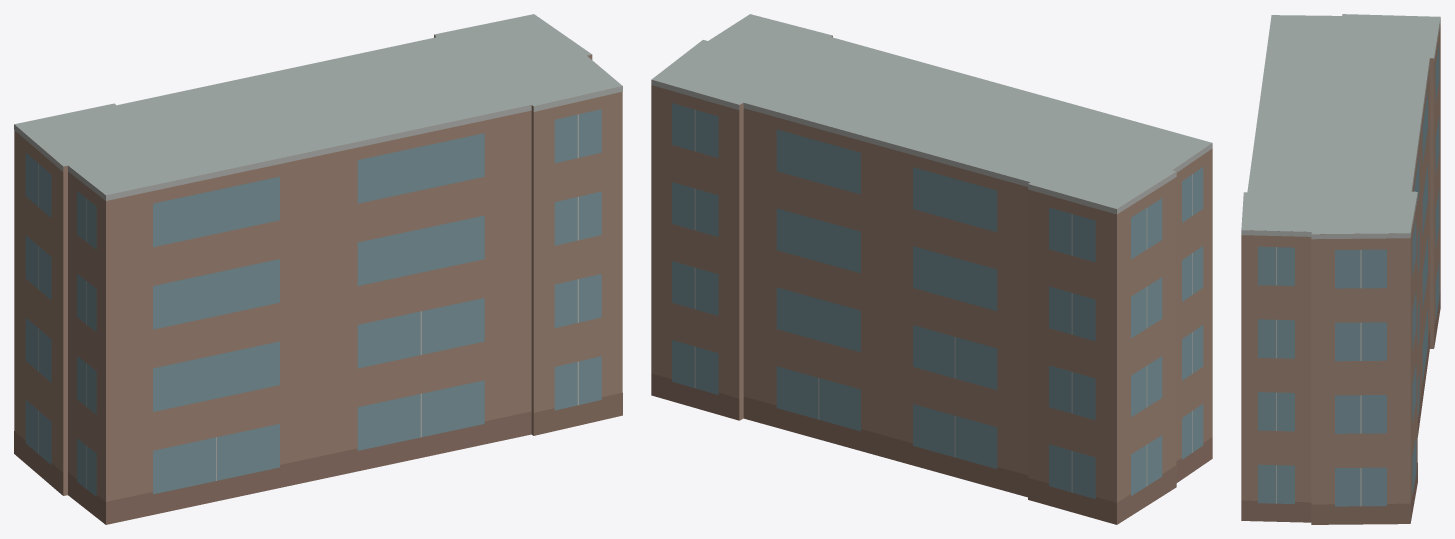
File: survey-upis-32689608.glb
The picture shows the model from 3 angles, left to right: view 1: azimuth 30°, elevation 25°; view 2: azimuth 150°, elevation 25°; view 3: azimuth 270°, elevation 25°; orthographic projection. The views are drawn at different scales.
Visible parts, largest first — view 1: survey-upis-32689608.tmp; view 2: survey-upis-32689608.tmp; view 3: survey-upis-32689608.tmp.
Part boxes in pixels (x1=…): survey-upis-32689608.tmp: x1=14, y1=14, x2=622, y2=524; survey-upis-32689608.tmp: x1=651, y1=14, x2=1212, y2=524; survey-upis-32689608.tmp: x1=1241, y1=14, x2=1440, y2=524.
Size of the model in its own units: 23.08 by 14.2 by 8.83.
